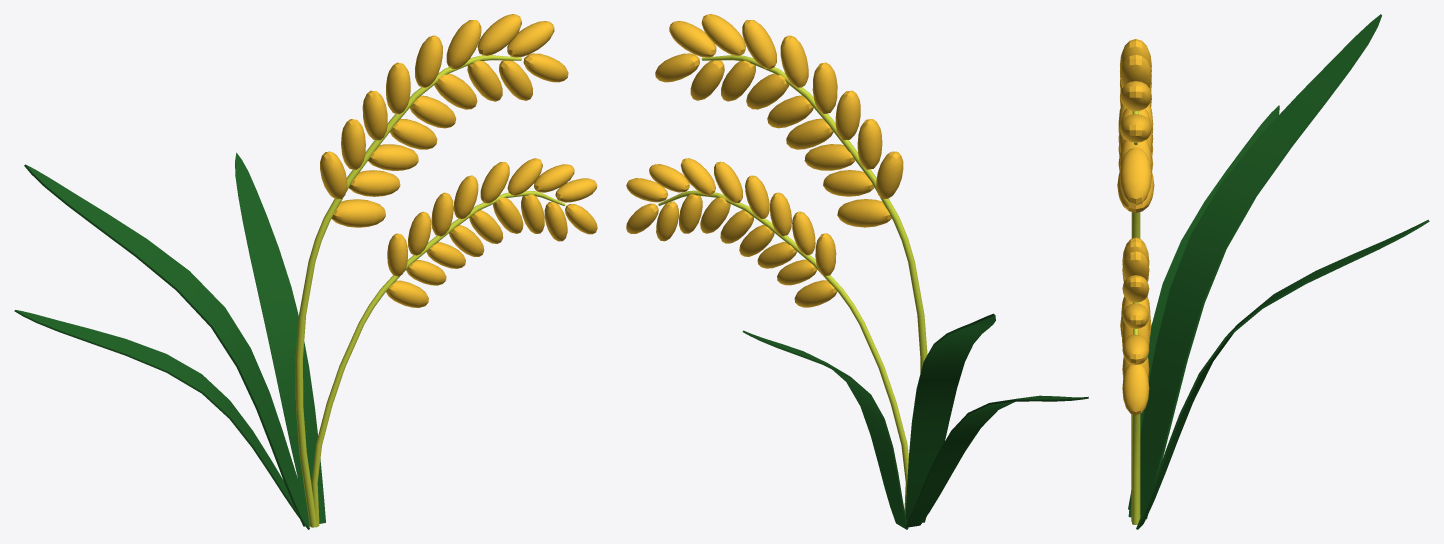
Rendered from sheaf_of_rice.gltf.
3 renders of one model, left to right at view 1: azimuth 30°, elevation 25°; view 2: azimuth 150°, elevation 25°; view 3: azimuth 270°, elevation 25°, orthographic. The views are drawn at different scales.
Visible parts, largest first — view 1: Circle.2077, Plane.178, Plane.177, Plane.179; view 2: Circle.2077, Plane.177, Plane.179, Plane.178; view 3: Plane.177, Circle.2077, Plane.178, Plane.179.
Part boxes in pixels (box(x1,y1,x2,y2)): Circle.2077: box(295, 14, 597, 527); Plane.178: box(235, 152, 325, 523); Plane.177: box(24, 164, 308, 526); Plane.179: box(14, 310, 309, 529); Circle.2077: box(626, 14, 927, 514); Plane.177: box(905, 313, 995, 522); Plane.179: box(905, 395, 1088, 527); Plane.178: box(742, 330, 908, 529); Plane.177: box(1128, 14, 1381, 514); Circle.2077: box(1117, 39, 1154, 524); Plane.178: box(1136, 219, 1429, 529); Plane.179: box(1128, 105, 1279, 519).
Bounding box in the file's own units: 2.15 × 1.84 × 0.9284.
1 material, 1 textured.
